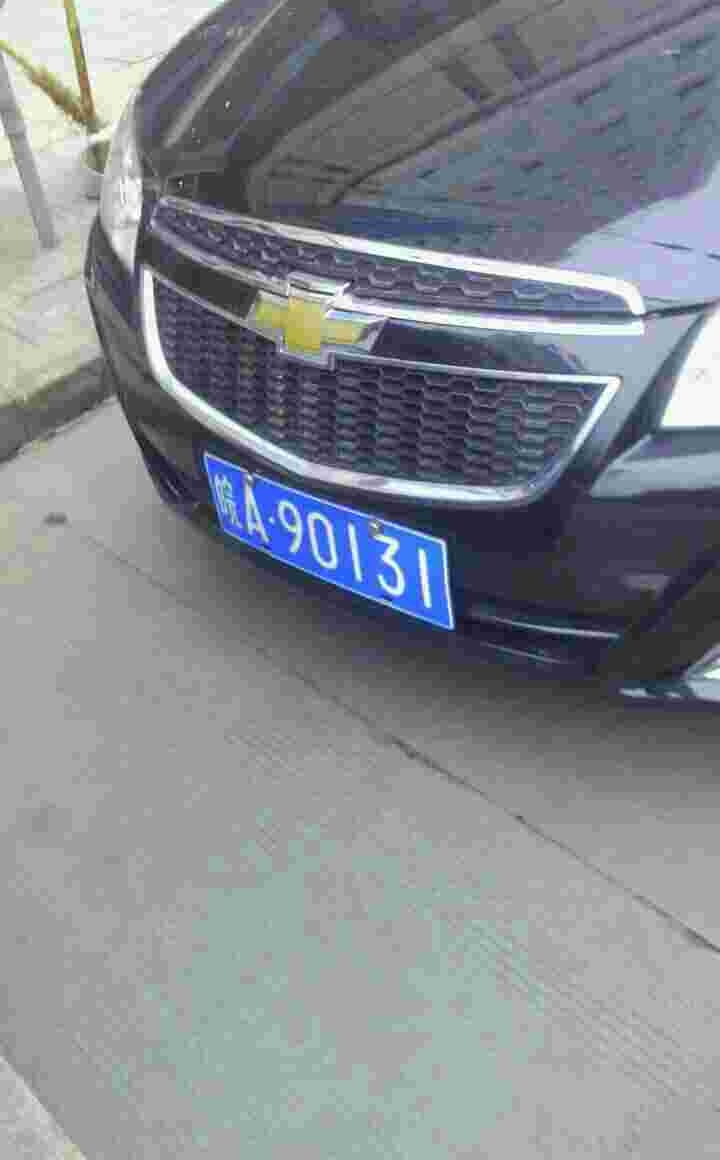license_plate: (206, 450, 453, 629)
